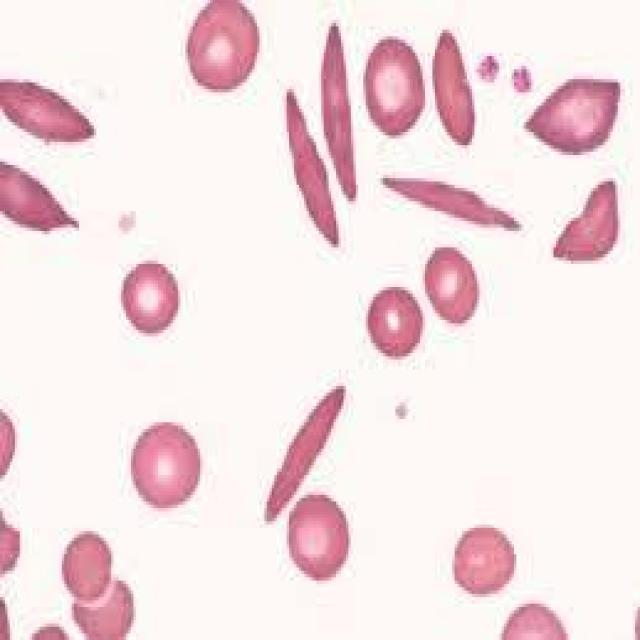sickle cell: (245, 379, 358, 532), (381, 158, 531, 248), (277, 86, 353, 254), (309, 13, 373, 211), (0, 70, 101, 163)
